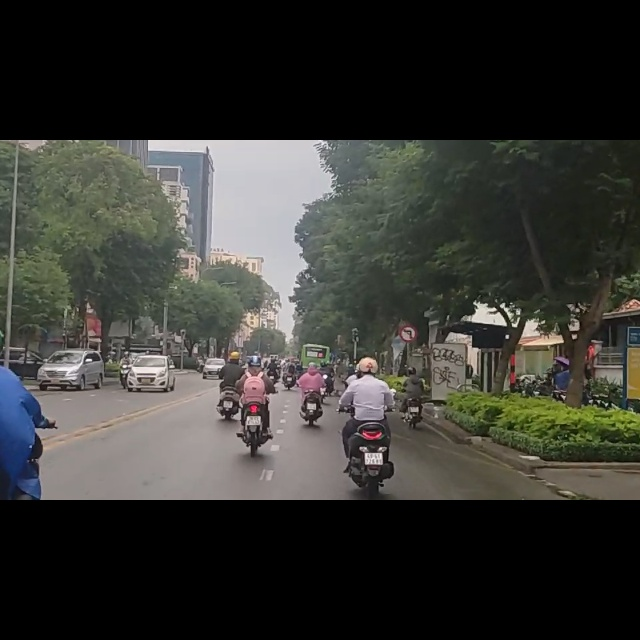bien_cam: (399, 326, 418, 358)
